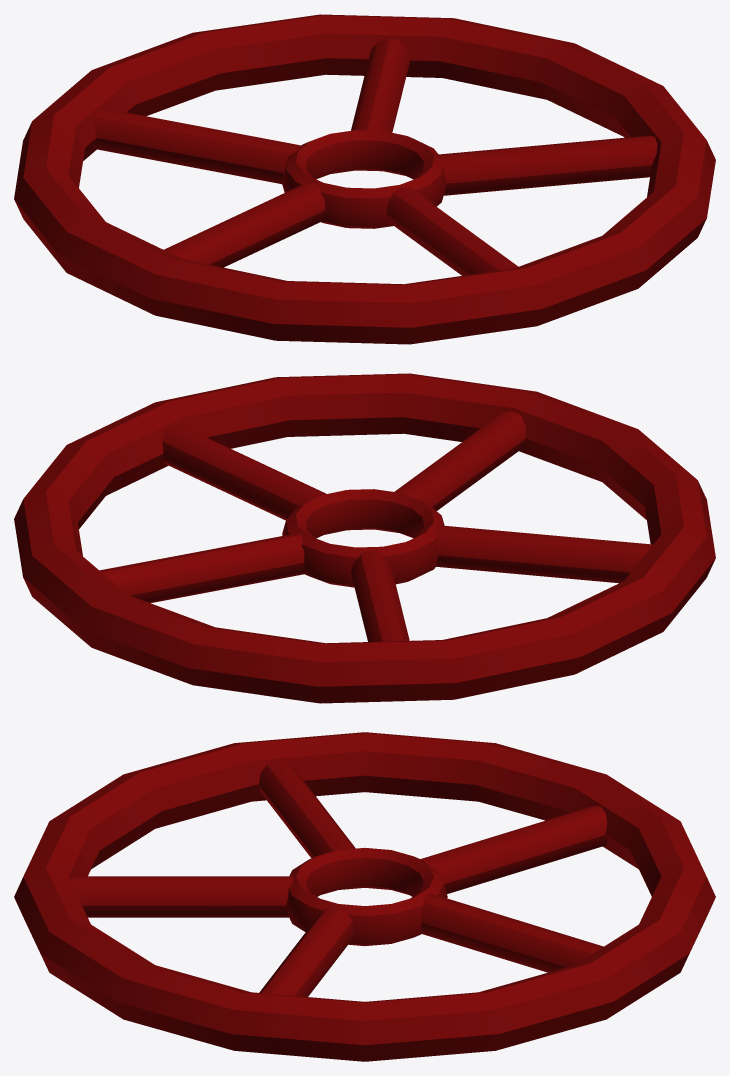
The model's file is handwheel_manual_override.fbx.
3 views of the same model, one above another, from view 1: azimuth 30°, elevation 25°; view 2: azimuth 150°, elevation 25°; view 3: azimuth 270°, elevation 25° (orthographic).
Visible parts, largest first — view 1: handwheel; view 2: handwheel; view 3: handwheel.
Boxes of the visible parts, x1,y1,x2,y2 form: handwheel: (14, 14, 715, 344); handwheel: (14, 373, 715, 703); handwheel: (14, 732, 715, 1061).
Bounding box in the file's own units: 0.5085 × 0.0462 × 0.5085.
